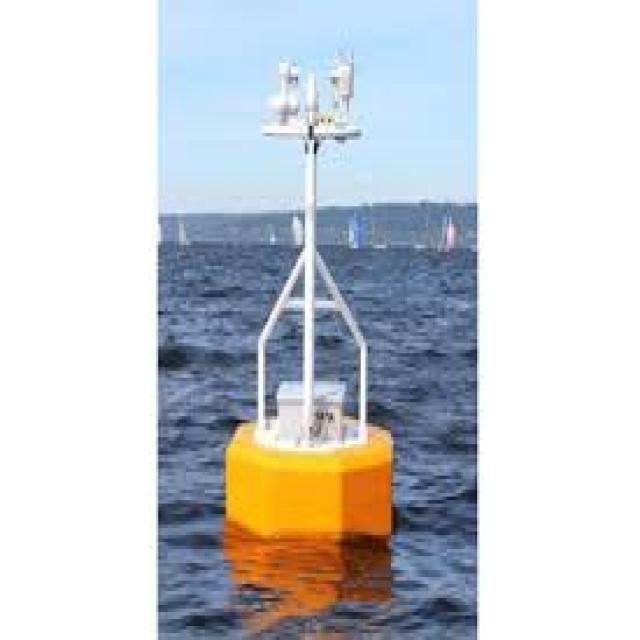2.5 sepcial mark: (220, 25, 408, 556)
